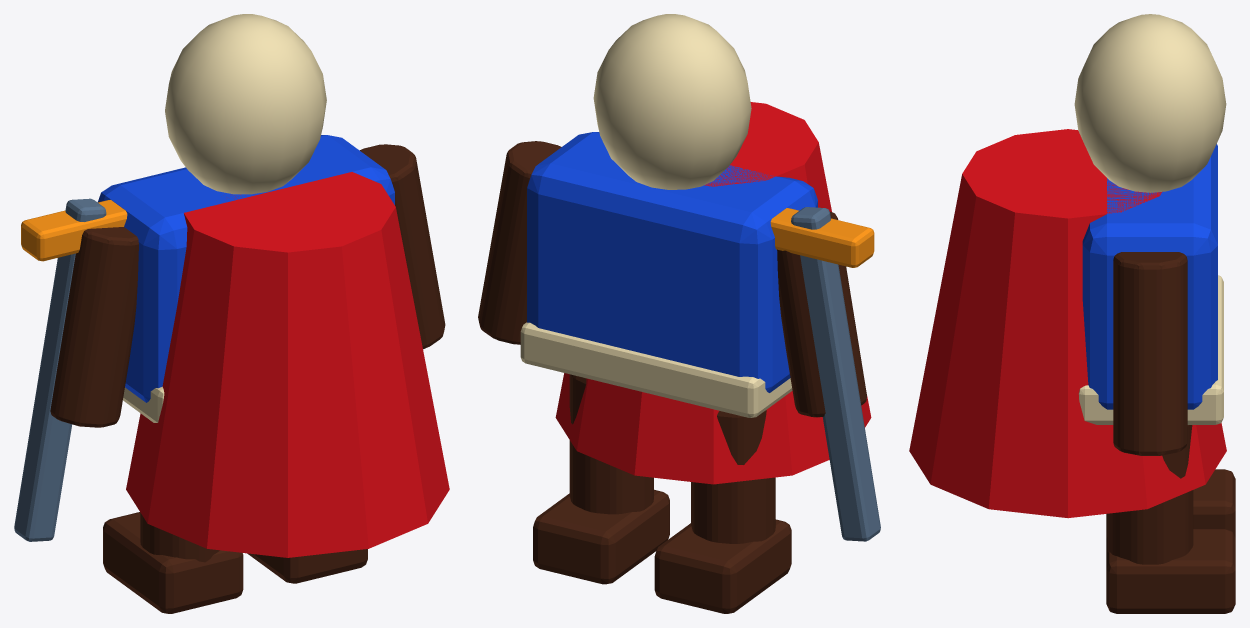
File: hero.obj
The picture shows the model from 3 angles, left to right: view 1: azimuth 30°, elevation 25°; view 2: azimuth 150°, elevation 25°; view 3: azimuth 270°, elevation 25°; orthographic projection. The views are drawn at different scales.
Parts seen in each view (by area): view 1: hero_cape_M_red, hero_head_M_cream, hero_torso_M_azure, hero_arm_r_M_brown, hero_sword_M_steel, hero_boot_r_M_brown, hero_arm_l_M_brown, hero_sword_guard_M_gold, hero_boot_l_M_brown, hero_leg_r_M_brown, hero_belt_M_cream; view 2: hero_torso_M_azure, hero_cape_M_red, hero_head_M_cream, hero_sword_M_steel, hero_belt_M_cream, hero_boot_r_M_brown, hero_boot_l_M_brown, hero_arm_l_M_brown, hero_leg_r_M_brown, hero_arm_r_M_brown, hero_leg_l_M_brown, hero_sword_guard_M_gold; view 3: hero_cape_M_red, hero_head_M_cream, hero_torso_M_azure, hero_arm_l_M_brown, hero_boot_l_M_brown, hero_leg_l_M_brown, hero_belt_M_cream, hero_boot_r_M_brown.
Part boxes in pixels (x1,y1,x2,y2): hero_cape_M_red: (126,172,449,557); hero_head_M_cream: (165,14,326,194); hero_torso_M_azure: (97,135,394,402); hero_arm_r_M_brown: (50,227,138,427); hero_sword_M_steel: (14,198,106,541); hero_boot_r_M_brown: (103,512,243,613); hero_arm_l_M_brown: (360,144,445,349); hero_sword_guard_M_gold: (21,200,127,261); hero_boot_l_M_brown: (247,549,367,583); hero_leg_r_M_brown: (140,513,219,562); hero_belt_M_cream: (123,386,164,422); hero_torso_M_azure: (527,132,817,392); hero_cape_M_red: (555,102,871,484); hero_head_M_cream: (593,14,751,189); hero_sword_M_steel: (791,207,880,541); hero_belt_M_cream: (520,322,792,417); hero_boot_r_M_brown: (654,519,791,613); hero_boot_l_M_brown: (533,489,669,584); hero_arm_l_M_brown: (478,141,561,344); hero_leg_r_M_brown: (691,410,775,543); hero_arm_r_M_brown: (777,211,866,417); hero_leg_l_M_brown: (569,374,653,514); hero_sword_guard_M_gold: (770,208,874,267); hero_cape_M_red: (909,129,1226,518); hero_head_M_cream: (1074,14,1226,192); hero_torso_M_azure: (1082,144,1217,409); hero_arm_l_M_brown: (1113,252,1187,455); hero_boot_l_M_brown: (1106,529,1235,613); hero_leg_l_M_brown: (1107,425,1193,564); hero_belt_M_cream: (1078,275,1223,424); hero_boot_r_M_brown: (1106,469,1235,538).
Size of the model in its own units: 0.7912 by 1.03 by 0.555.
